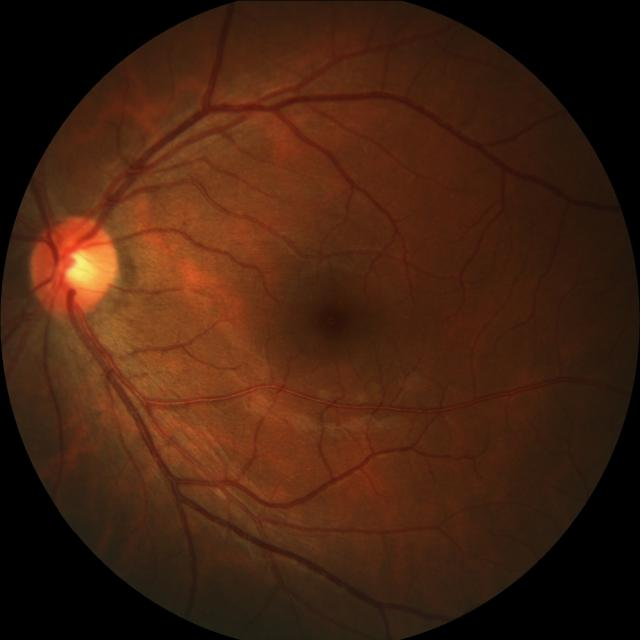OC: (54, 240, 100, 291)
OD: (31, 214, 120, 316)
